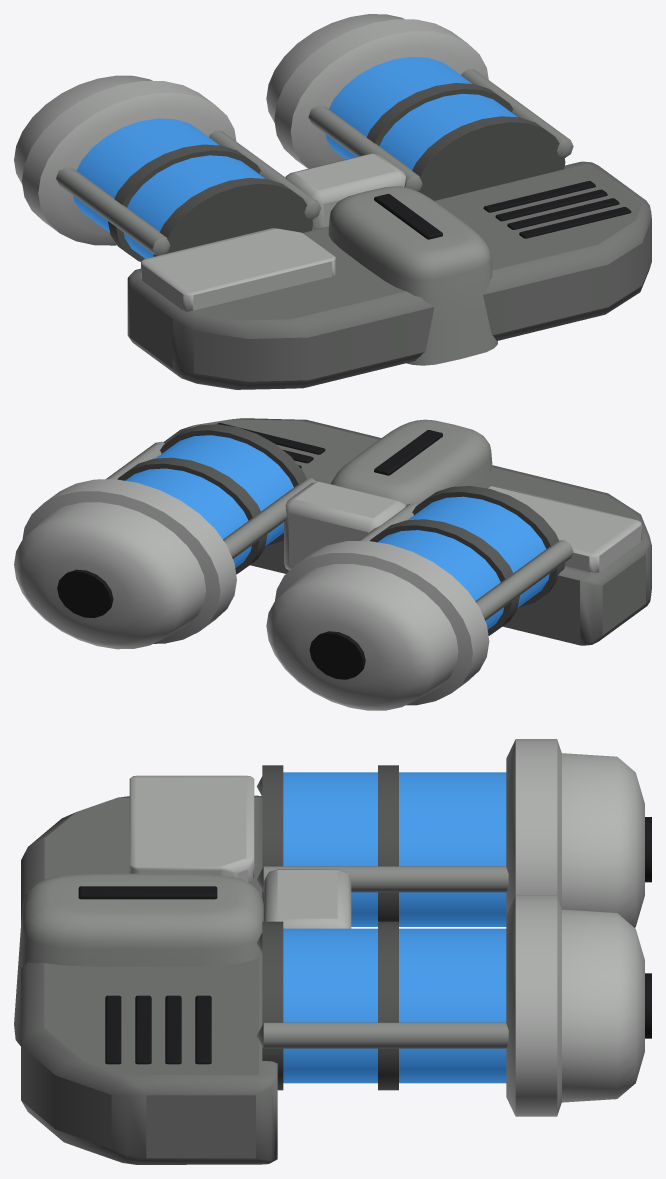
Rendered from store_gun_3.glb.
3 renders of one model, top to bottom at view 1: azimuth 30°, elevation 25°; view 2: azimuth 150°, elevation 25°; view 3: azimuth 270°, elevation 25°, orthographic. The views are drawn at different scales.
Parts seen in each view (by area): view 1: body, spine, cap_-1, cap_1, side_plate, chamber_-1, chamber_1, cage_ring_1_-2.6, cage_ring_-1_-2.6, bridge, cage_rail_-1_-1, cage_ring_-1_2.4 (+9 smaller); view 2: cap_-1, cap_1, body, chamber_-1, chamber_1, spine, bridge, side_plate, cage_rail_-1_-1, cage_ring_-1_-2.6, cage_ring_1_2.4, cage_ring_-1_2.4 (+8 smaller); view 3: body, cap_1, chamber_1, chamber_-1, cap_-1, spine, side_plate, cage_rail_1_1, bridge, cage_rail_-1_1, cage_ring_1_2.4, cage_ring_-1_2.4 (+7 smaller).
Part boxes in pixels (bbox=[...]): body: bbox=[127, 161, 651, 389]; spine: bbox=[328, 186, 497, 365]; cap_-1: bbox=[14, 75, 236, 245]; cap_1: bbox=[266, 14, 488, 168]; side_plate: bbox=[141, 228, 335, 311]; chamber_-1: bbox=[73, 118, 265, 258]; chamber_1: bbox=[325, 56, 517, 169]; cage_ring_1_-2.6: bbox=[412, 116, 565, 200]; cage_ring_-1_-2.6: bbox=[153, 178, 312, 256]; bridge: bbox=[285, 153, 405, 228]; cage_rail_-1_-1: bbox=[56, 167, 170, 255]; cage_ring_-1_2.4: bbox=[108, 144, 260, 261]; cap_-1: bbox=[266, 541, 489, 710]; cap_1: bbox=[14, 479, 236, 649]; body: bbox=[163, 418, 651, 645]; chamber_-1: bbox=[378, 496, 549, 629]; chamber_1: bbox=[125, 435, 293, 567]; spine: bbox=[331, 419, 492, 505]; bridge: bbox=[284, 481, 405, 570]; side_plate: bbox=[488, 486, 641, 572]; cage_rail_-1_-1: bbox=[475, 540, 573, 620]; cage_ring_-1_-2.6: bbox=[412, 486, 565, 607]; cage_ring_1_2.4: bbox=[117, 457, 267, 574]; cage_ring_-1_2.4: bbox=[370, 519, 519, 635]; body: bbox=[21, 795, 277, 1164]; cap_1: bbox=[506, 895, 644, 1116]; chamber_1: bbox=[283, 928, 506, 1083]; chamber_-1: bbox=[283, 772, 506, 926]; cap_-1: bbox=[506, 739, 644, 927]; spine: bbox=[14, 873, 263, 1045]; side_plate: bbox=[129, 775, 254, 882]; cage_rail_1_1: bbox=[256, 1022, 508, 1048]; bridge: bbox=[263, 869, 351, 928]; cage_rail_-1_1: bbox=[257, 866, 508, 892]; cage_ring_1_2.4: bbox=[378, 921, 398, 1090]; cage_ring_-1_2.4: bbox=[378, 765, 398, 921].
Size of the model in its own units: 30 by 9.01 by 27.6.
